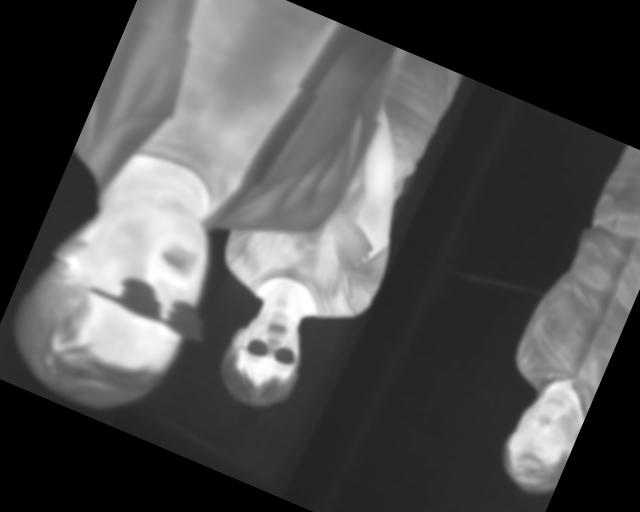face: (1, 168, 230, 434), (209, 295, 321, 421), (488, 377, 590, 503)
